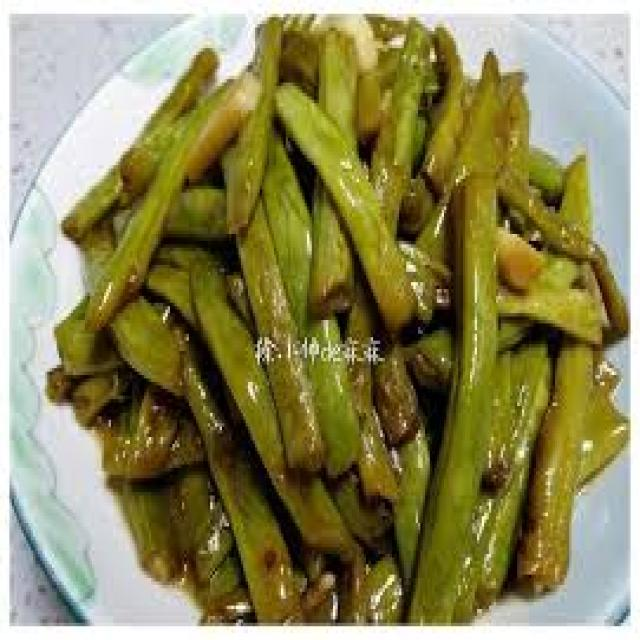food_waste: (50, 14, 626, 619)
